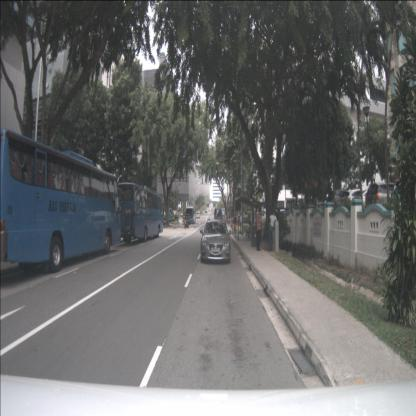human-pedestrian-adult: (268, 210, 276, 251), (256, 208, 262, 251), (246, 221, 252, 238), (239, 213, 242, 233), (234, 214, 237, 233), (230, 215, 233, 232)
vehicle-bus-rigid: (0, 127, 122, 274), (112, 182, 163, 243), (185, 206, 196, 225), (214, 208, 222, 224)
vehicle-car: (366, 182, 410, 218), (200, 219, 231, 264), (341, 188, 372, 215), (184, 215, 190, 225), (196, 212, 200, 219)
vehicle-motorcycle: (184, 217, 189, 229)
